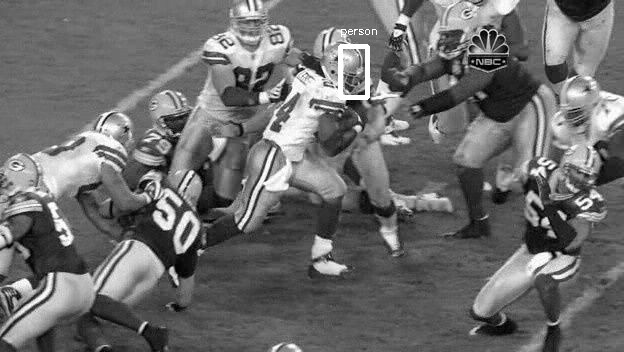person: (327, 47, 362, 91), (326, 47, 361, 91), (328, 47, 363, 91), (327, 46, 362, 90), (327, 48, 362, 92)
target_negative: (357, 39, 617, 157), (268, 174, 421, 323), (546, 208, 595, 320), (489, 254, 568, 295), (456, 134, 487, 197), (606, 236, 608, 267)
